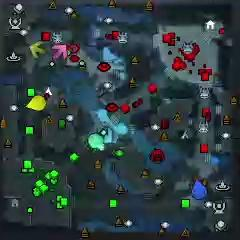p1: (191, 179, 209, 200)
p2: (88, 132, 106, 151)
p4: (26, 94, 47, 111)
x1: (51, 44, 68, 60)
x2: (30, 41, 46, 58)
x3: (102, 128, 114, 145)
x5: (189, 175, 207, 186)
